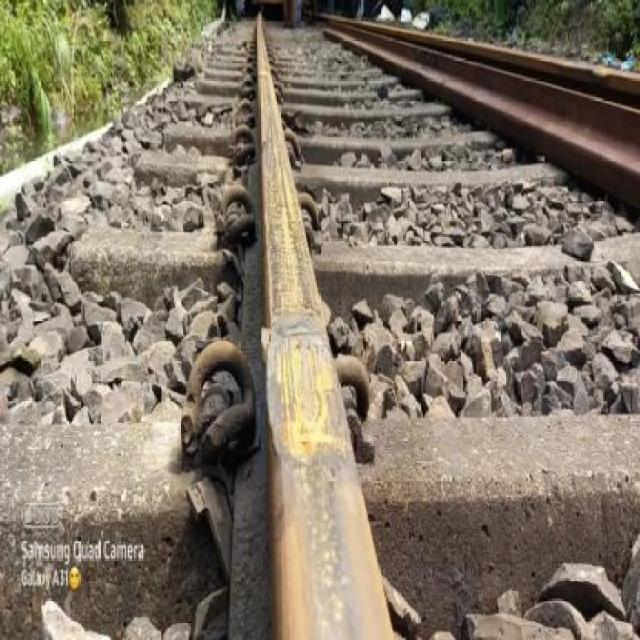defective: (207, 0, 413, 640)
